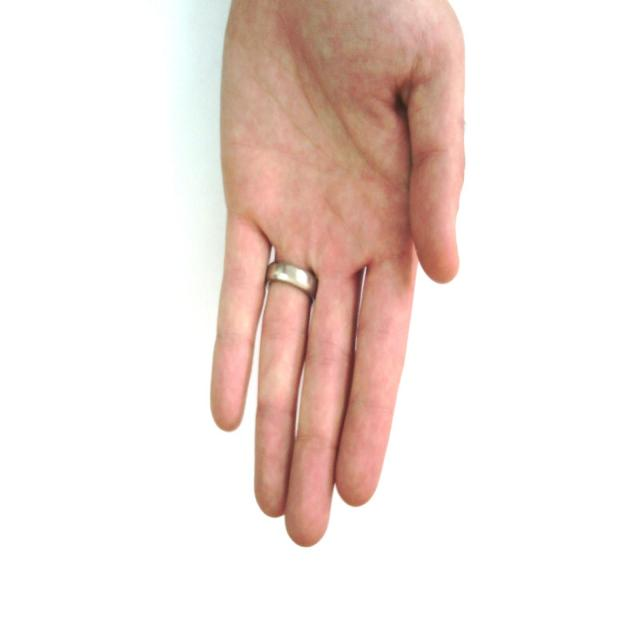others: (159, 1, 548, 546)
